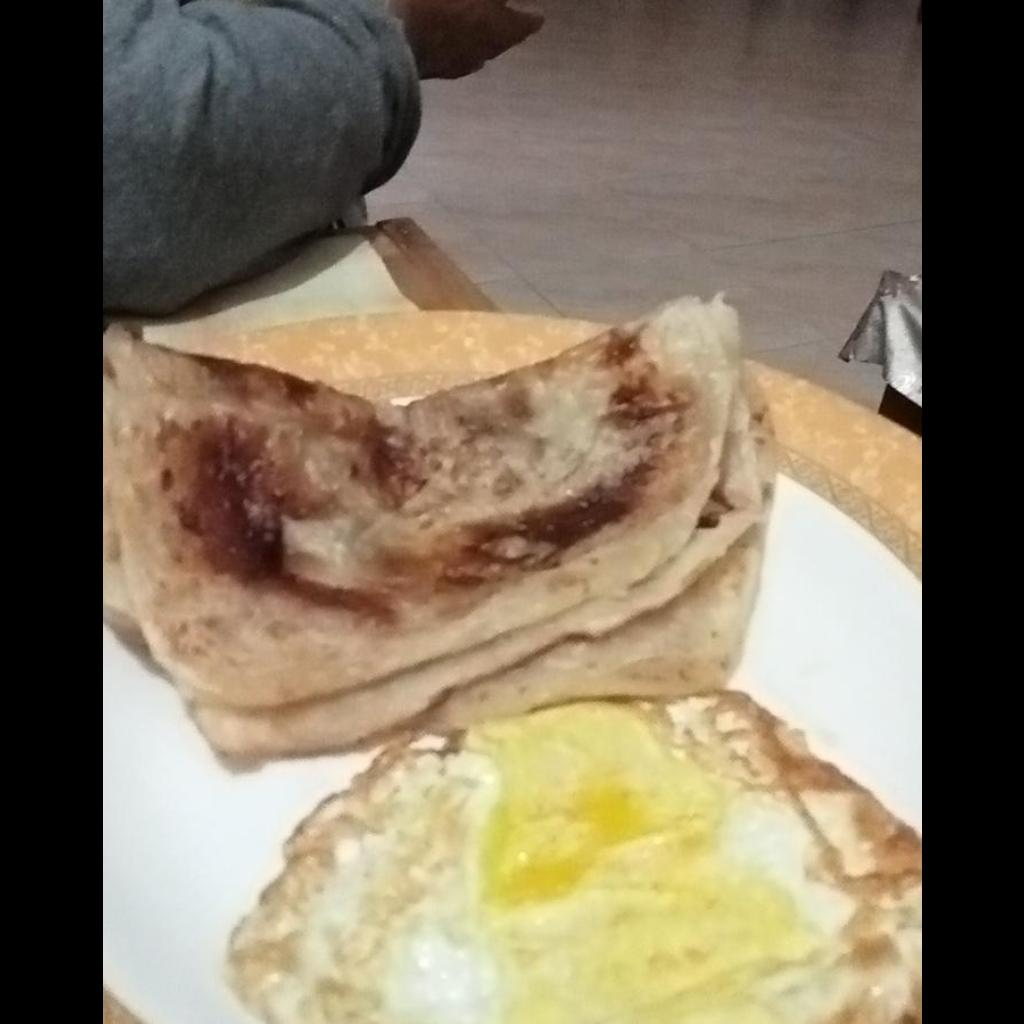egg-poached: (224, 695, 920, 1023)
ruti: (102, 289, 772, 773)
